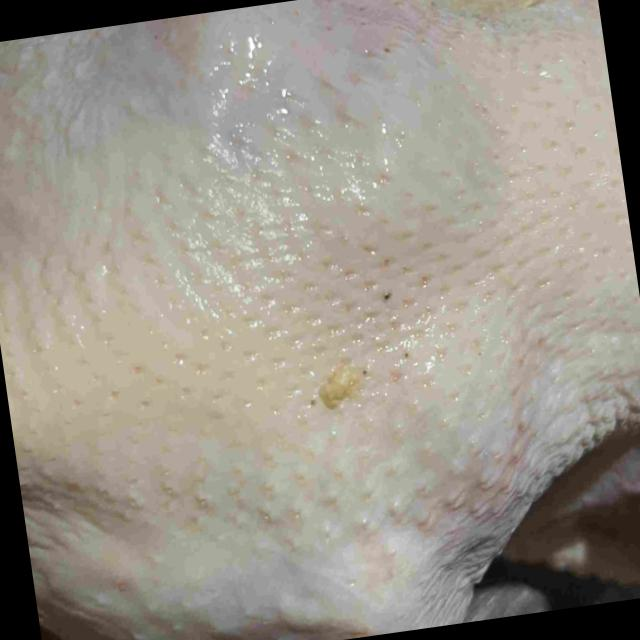back: (0, 15, 640, 606)
leg: (40, 557, 484, 640)
wing: (504, 436, 640, 595)
